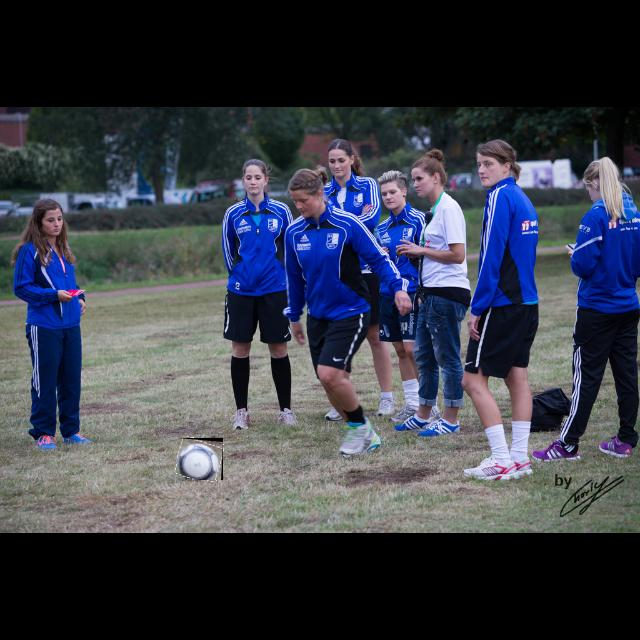Football: (177, 438, 223, 480)
